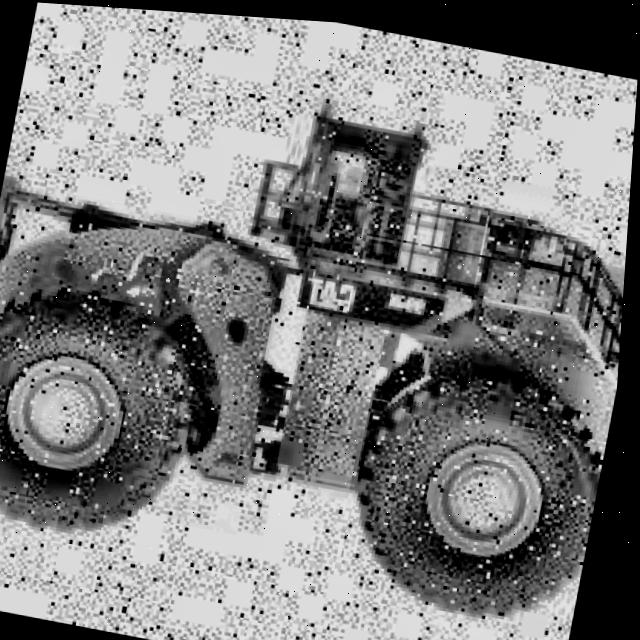buldozerpayloadergrader: (0, 24, 639, 640)
